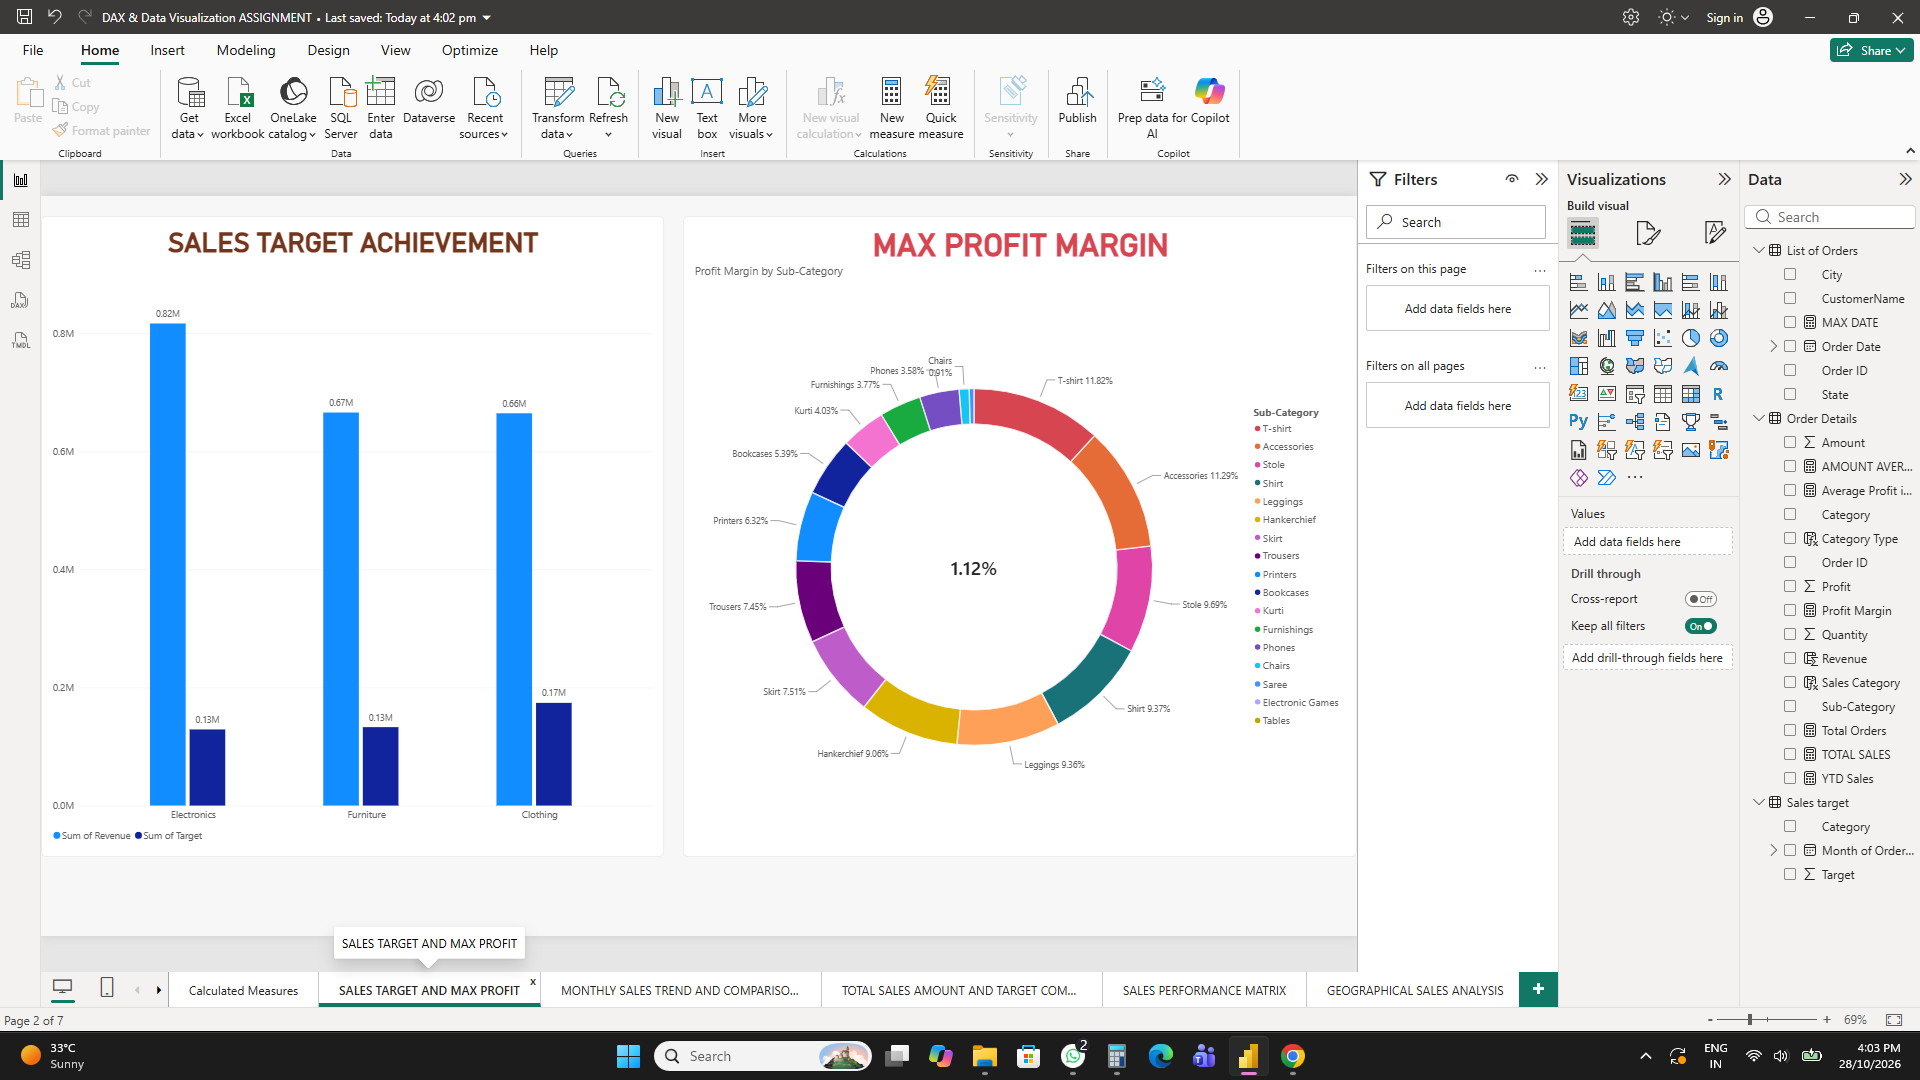

The dashboard page shown, as its layout file describes it:
{"tool":"powerbi","page":{"name":"SALES TARGET AND MAX PROFIT","canvas":[1920,1080],"ordinal":1},"visuals":[{"type":"clusteredColumnChart","title":"SALES TARGET ACHIEVEMENT ","fields":{"Category":["Order Details .Category"],"Y":["Sum(Order Details .Revenue)","Sum(Sales target .Target)"]},"box":[0,29.2,908.9,935.2],"z":0},{"type":"donutChart","title":"MAX PROFIT MARGIN","fields":{"Category":["Order Details .Sub-Category"],"Y":["Order Details .Profit Margin"]},"box":[936.7,29.2,983.3,935.2],"z":1000}]}

Visuals, with their boxes on the page's 1920x1080 design canvas (x1, y1, x2, y2). These are canvas units, not pixel positions in the 1920x1080 screenshot, which may show the page scaled, cropped or inside an application window:
"SALES TARGET ACHIEVEMENT " clusteredColumnChart: <box>0,29,909,964</box>
"MAX PROFIT MARGIN" donutChart: <box>937,29,1920,964</box>
